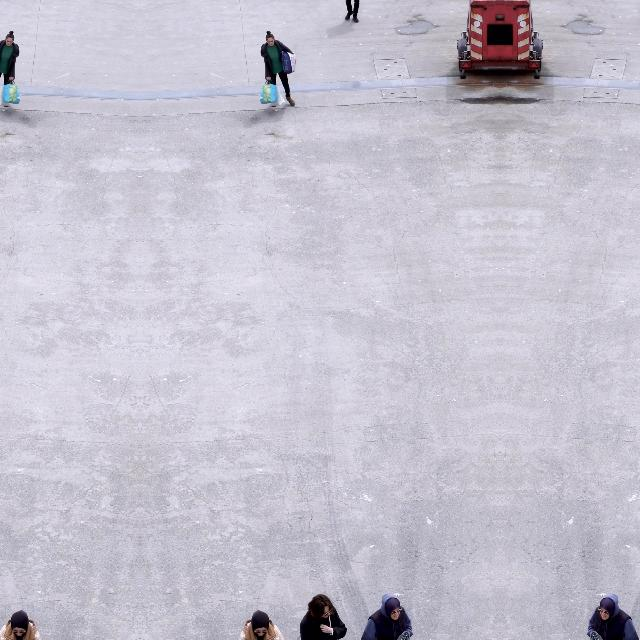person: (260, 30, 296, 106), (361, 594, 413, 640), (587, 594, 639, 640), (299, 594, 347, 640), (0, 30, 19, 106), (240, 610, 284, 640), (0, 610, 40, 640), (344, 0, 359, 22)
